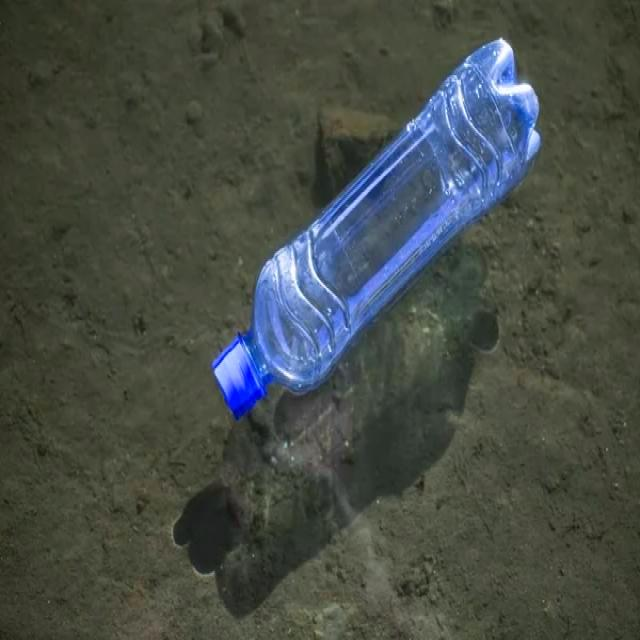Plastic: (210, 34, 538, 424)
